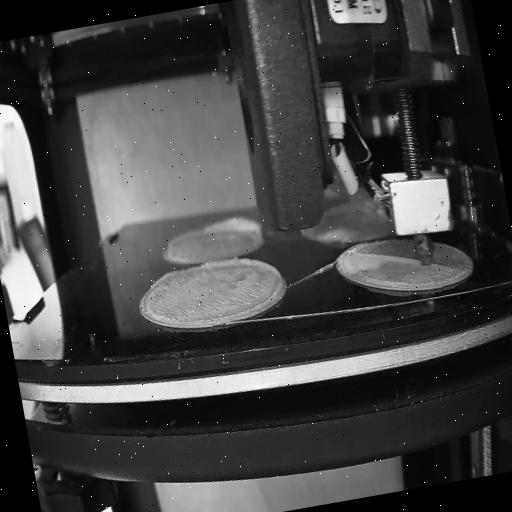over_extrusion: (196, 249, 288, 323), (200, 209, 263, 251), (351, 237, 418, 276), (146, 265, 184, 293), (165, 228, 201, 248)
